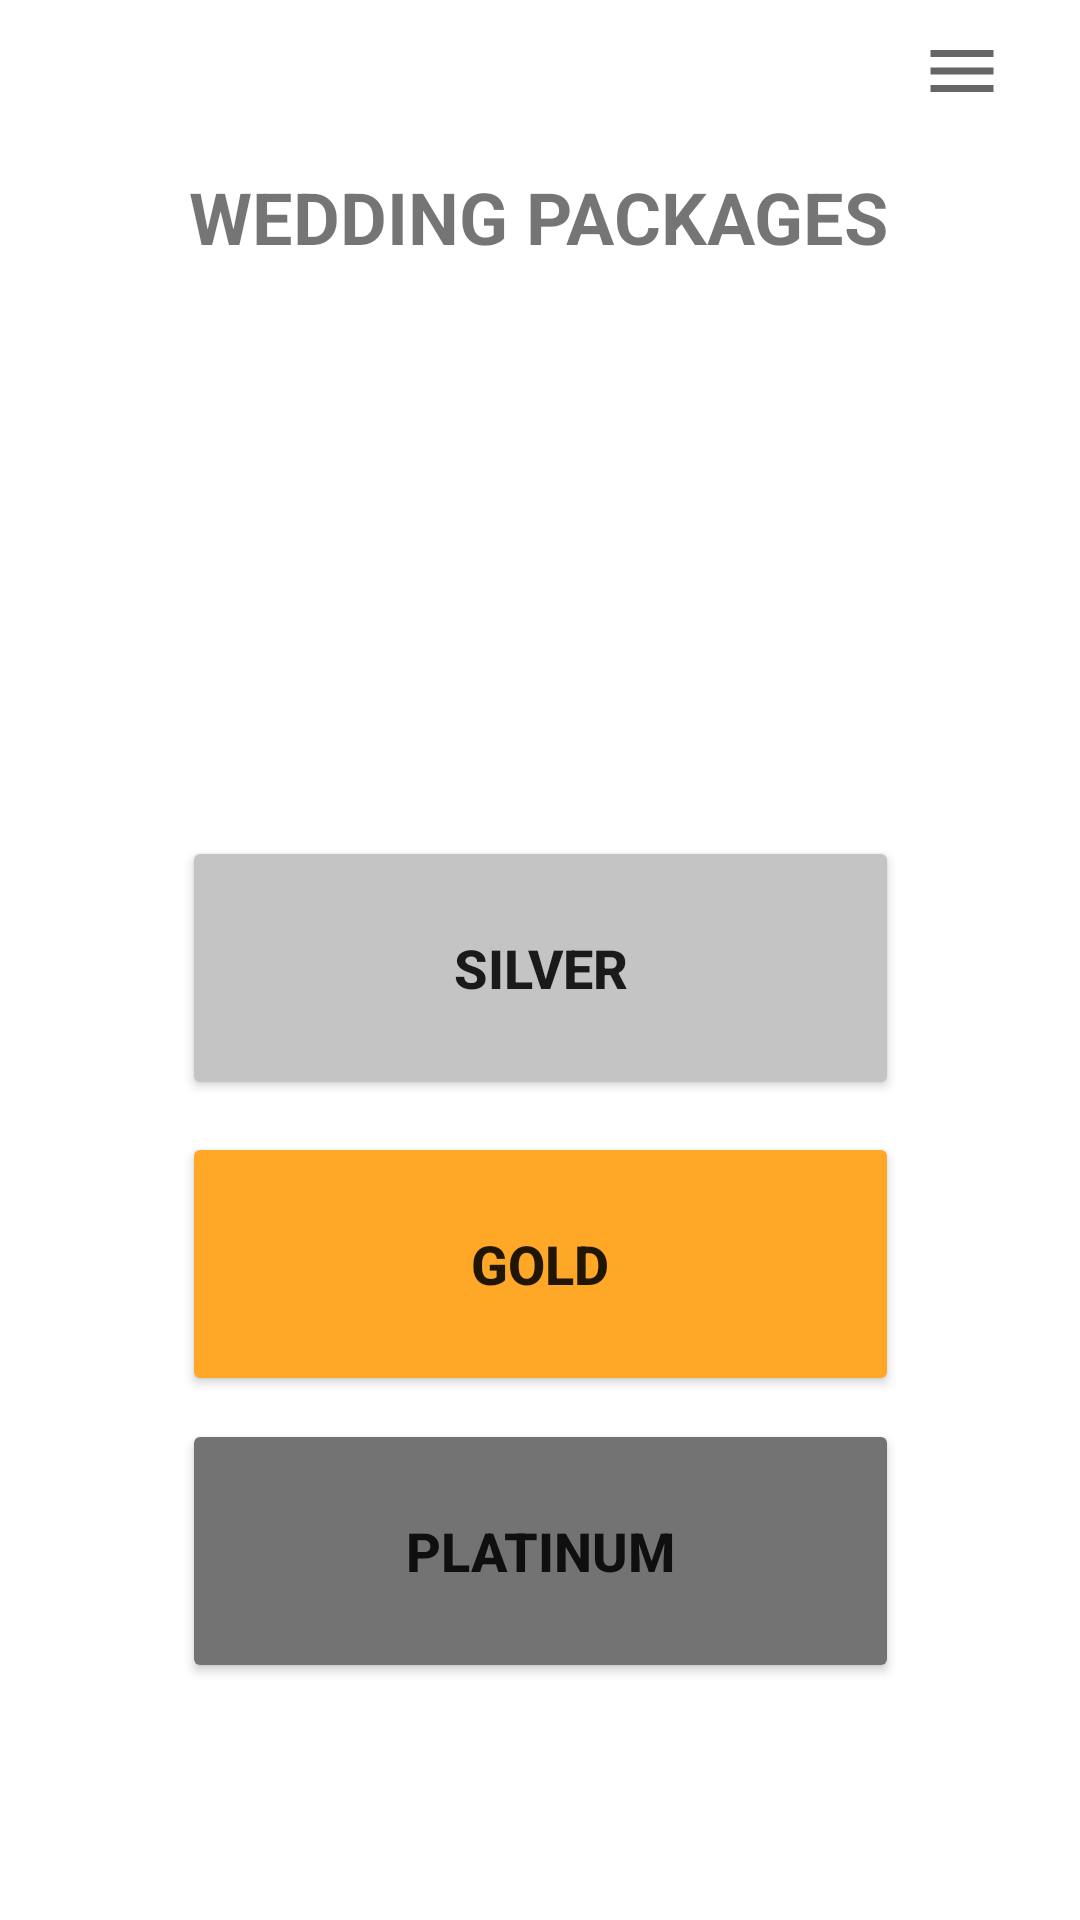

Icons on this 1080×1920 Android screen, each with its box as [x1=x1, y1=y1, x2=x2, y2=y2]:
menu: [x1=930, y1=50, x2=994, y2=92]
